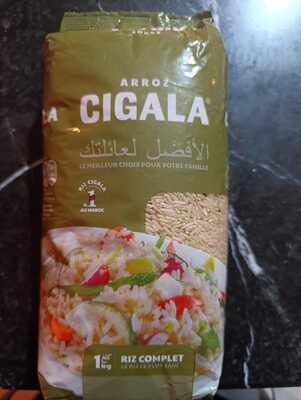RIZ: (15, 20, 286, 380)
